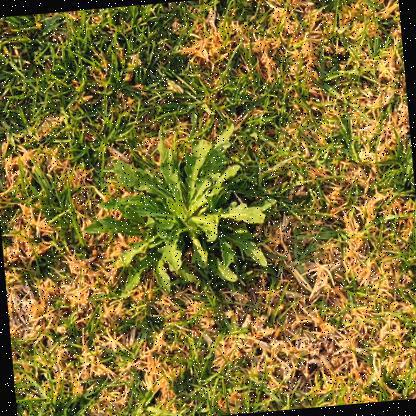Weeds: (73, 121, 287, 302)
